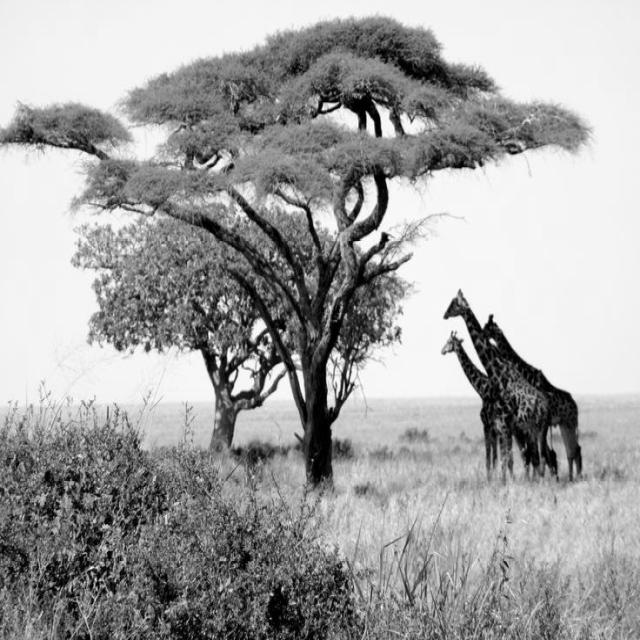Acacia: (116, 43, 438, 477)
